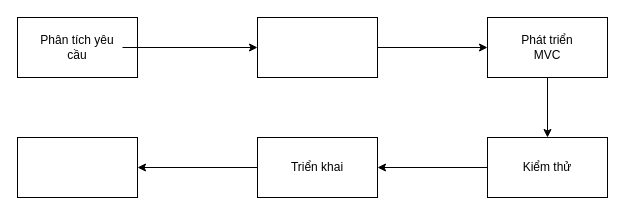
Some shapes in this 625 by 215 pixel diagram are drawn without their labels. Here are the shapes that lost their labels. From the top down, the centre of each, then its label:
the point at 317,47: Thiết kế hệ thống
the point at 77,167: Bảo trì và nâng cấp
